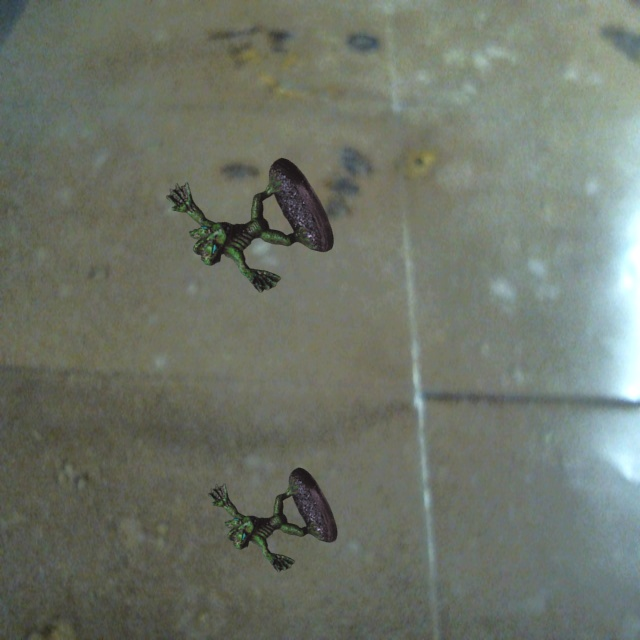pieza_juego: (166, 158, 333, 292), (208, 467, 337, 571)
